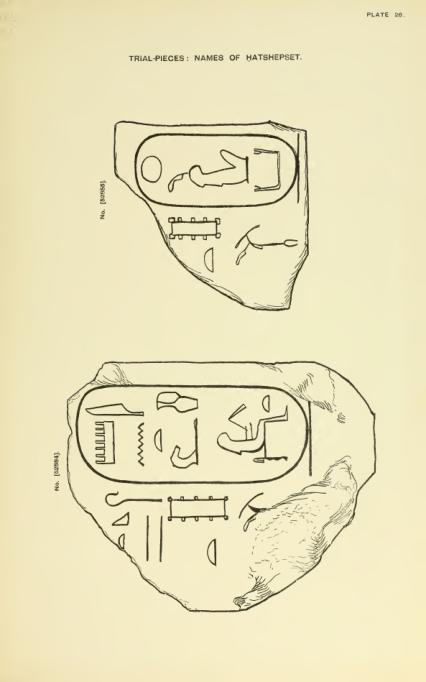circle: (73, 381, 318, 487), (130, 130, 307, 208)
